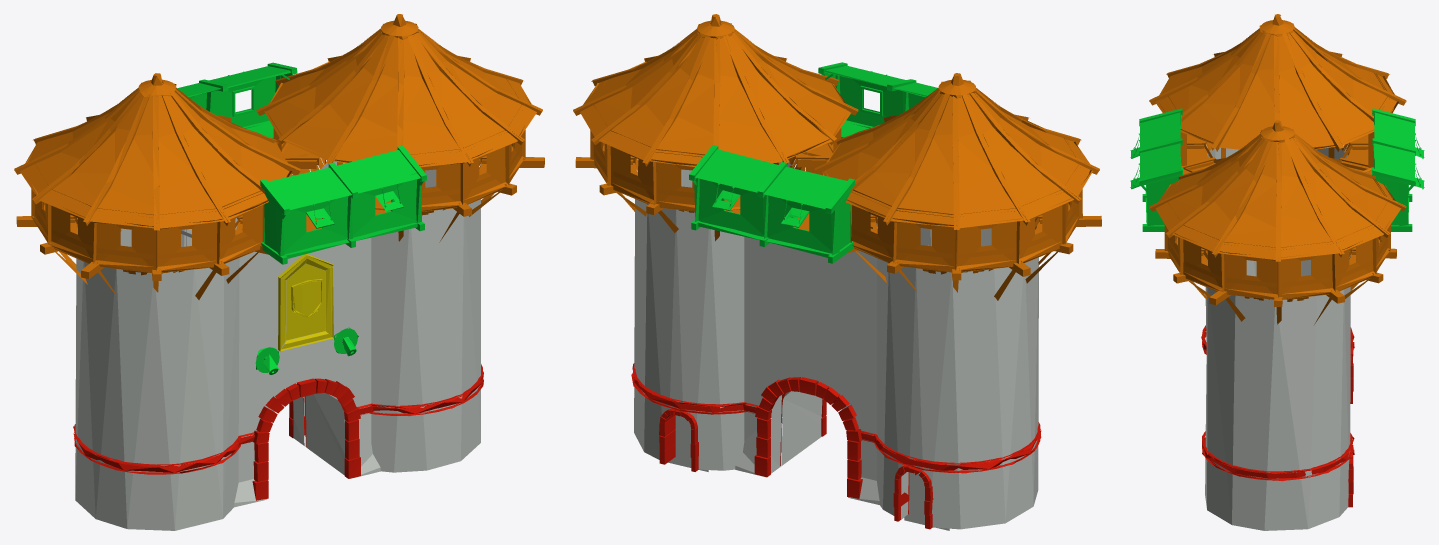
Rendered from Goal_2 (2).fbx.
The picture shows the model from 3 angles, left to right: view 1: azimuth 30°, elevation 25°; view 2: azimuth 150°, elevation 25°; view 3: azimuth 270°, elevation 25°; orthographic projection. The views are drawn at different scales.
Visible parts, largest first — view 1: a; view 2: a; view 3: a.
Part boxes in pixels (x1,y1,x2,y2): a: [14, 14, 544, 530]; a: [573, 14, 1101, 530]; a: [1130, 14, 1424, 530].
Size of the model in its own units: 2239 by 1877 by 1296.
